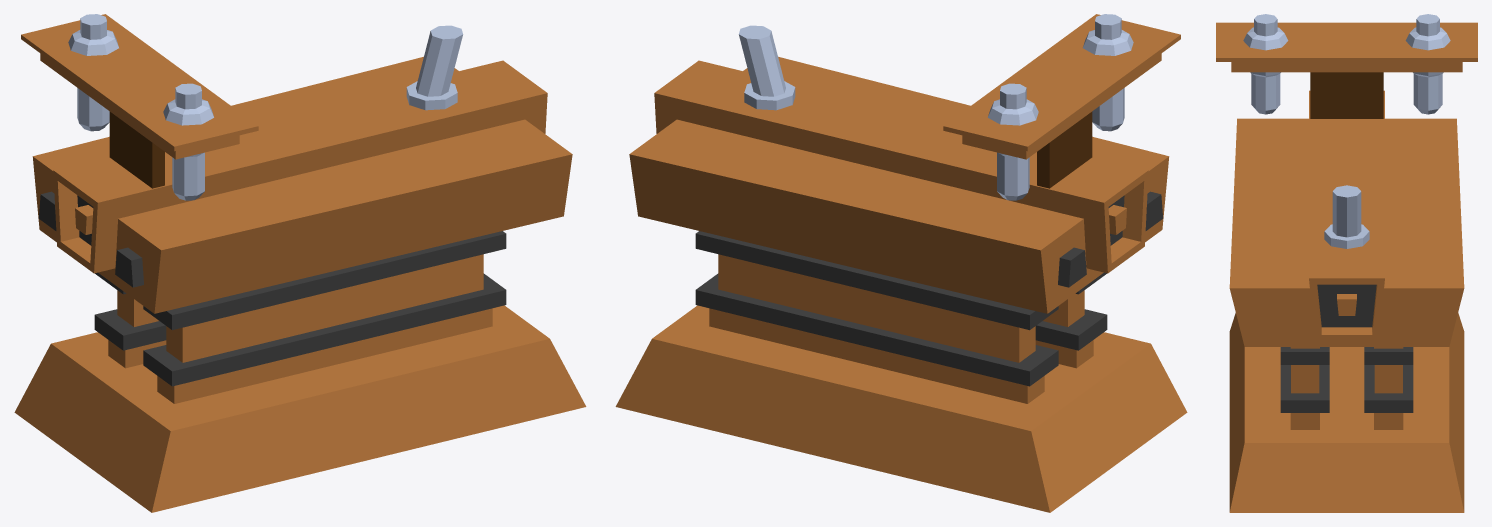
The model's file is ShooterBody.fbx.
The picture shows the model from 3 angles, left to right: view 1: azimuth 30°, elevation 25°; view 2: azimuth 150°, elevation 25°; view 3: azimuth 270°, elevation 25°; orthographic projection. The views are drawn at different scales.
Parts seen in each view (by area): view 1: Shooter; view 2: Shooter; view 3: Shooter.
Boxes of the visible parts, x1,y1,x2,y2 form: Shooter: (14, 14, 586, 512); Shooter: (615, 14, 1187, 512); Shooter: (1216, 14, 1477, 512).
Size of the model in its own units: 673 by 563 by 397.
